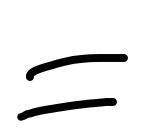eqv: (17, 54, 128, 122)
